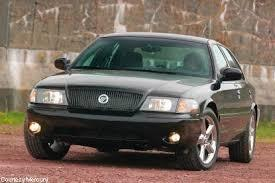Mercury: (95, 92, 112, 106)
